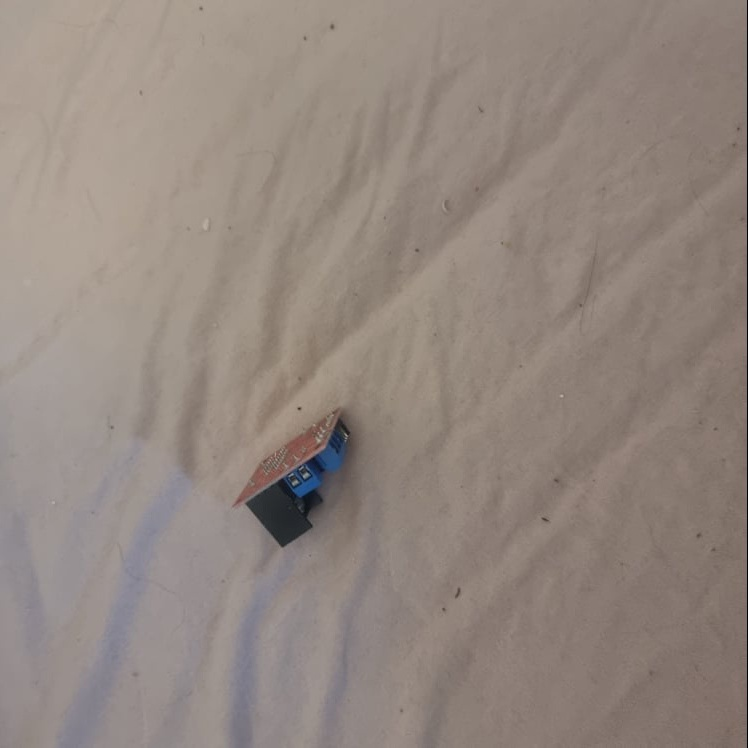MOTOR: (235, 411, 356, 549)
